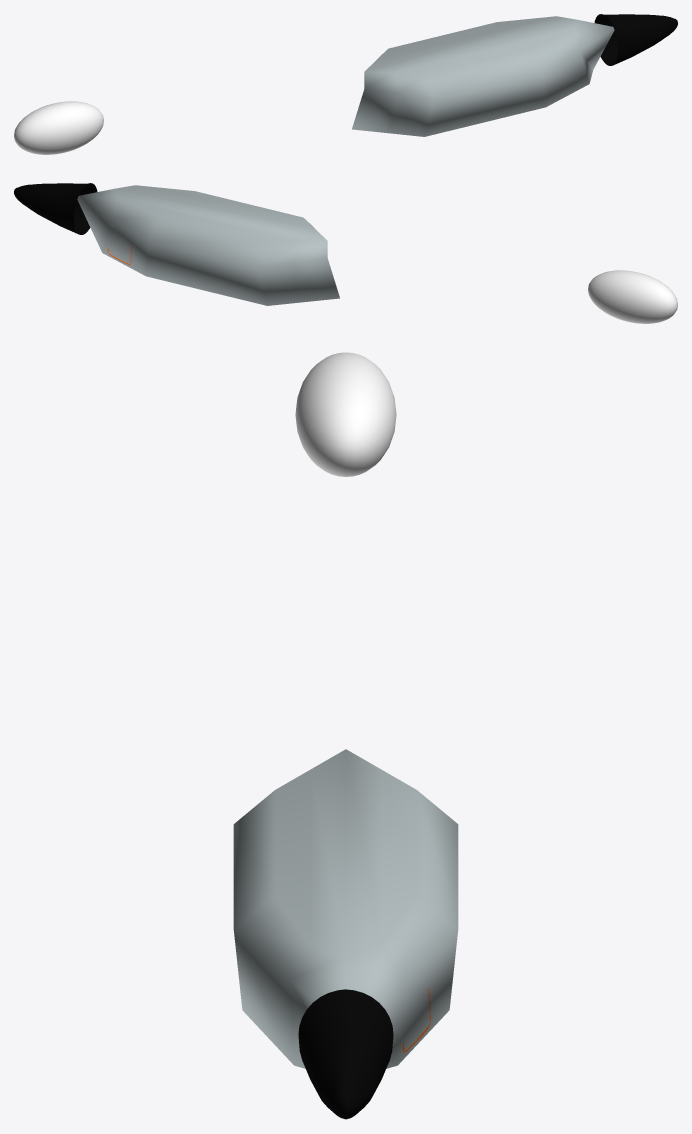
The picture shows the model from 3 angles, top to bottom: view 1: azimuth 30°, elevation 25°; view 2: azimuth 150°, elevation 25°; view 3: azimuth 270°, elevation 25°; orthographic projection. The views are drawn at different scales.
Visible parts, largest first — view 1: 立方体, 球, Circle; view 2: 立方体, 球, Circle; view 3: 立方体, 球, Circle.
Part boxes in pixels (x1,y1,x2,y2): 立方体: [352, 16, 614, 136]; 球: [14, 101, 103, 154]; Circle: [594, 14, 677, 65]; 立方体: [77, 185, 339, 305]; 球: [588, 270, 677, 323]; Circle: [14, 183, 97, 234]; 立方体: [233, 749, 458, 1068]; 球: [295, 352, 396, 476]; Circle: [298, 989, 393, 1119].
Size of the model in its own units: 30.25 by 4.54 by 4.44.
3 materials, 2 textured.
